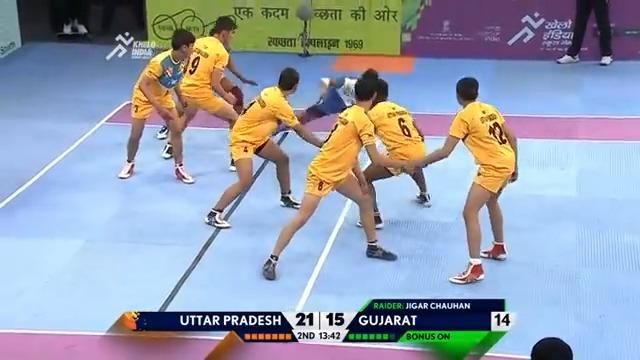Player: (261, 74, 412, 280), (401, 76, 519, 284), (204, 66, 328, 229), (160, 15, 246, 174), (117, 28, 196, 183), (352, 76, 431, 229)
Raider: (301, 39, 392, 166)
referee: (555, 0, 614, 65)
